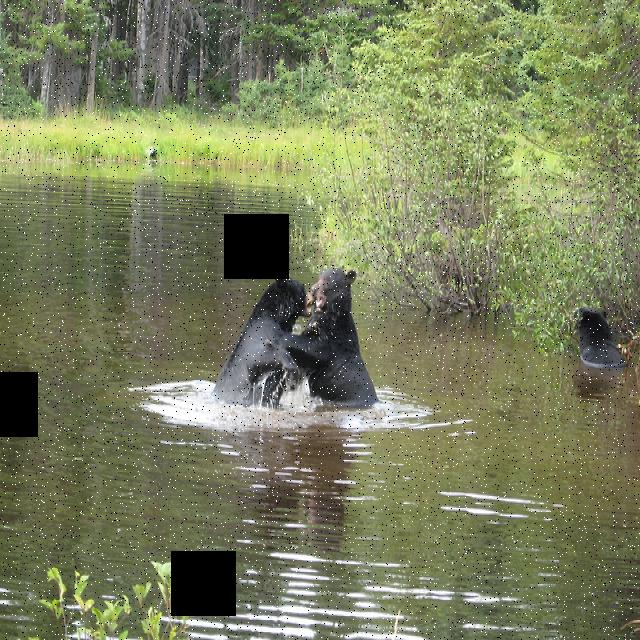Bear: (272, 255, 376, 423), (221, 264, 310, 428)
